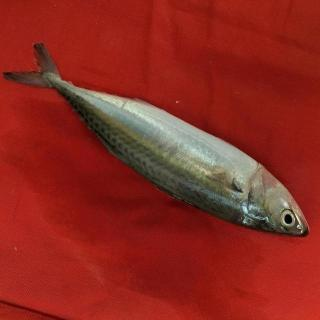Ikan: (1, 29, 319, 243)
